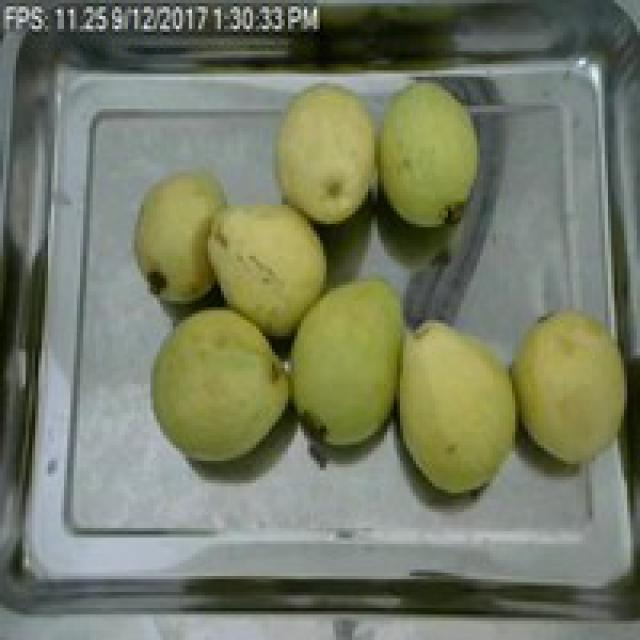Fruit: (381, 301, 528, 502), (278, 266, 426, 458), (144, 298, 298, 470), (499, 294, 640, 470), (365, 70, 493, 240), (202, 192, 339, 349), (262, 74, 390, 240)
